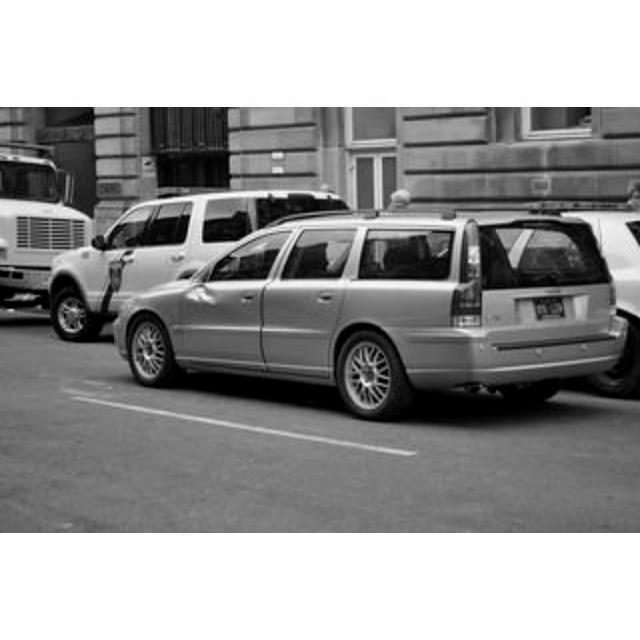doorouter-dent: (180, 271, 256, 341)
